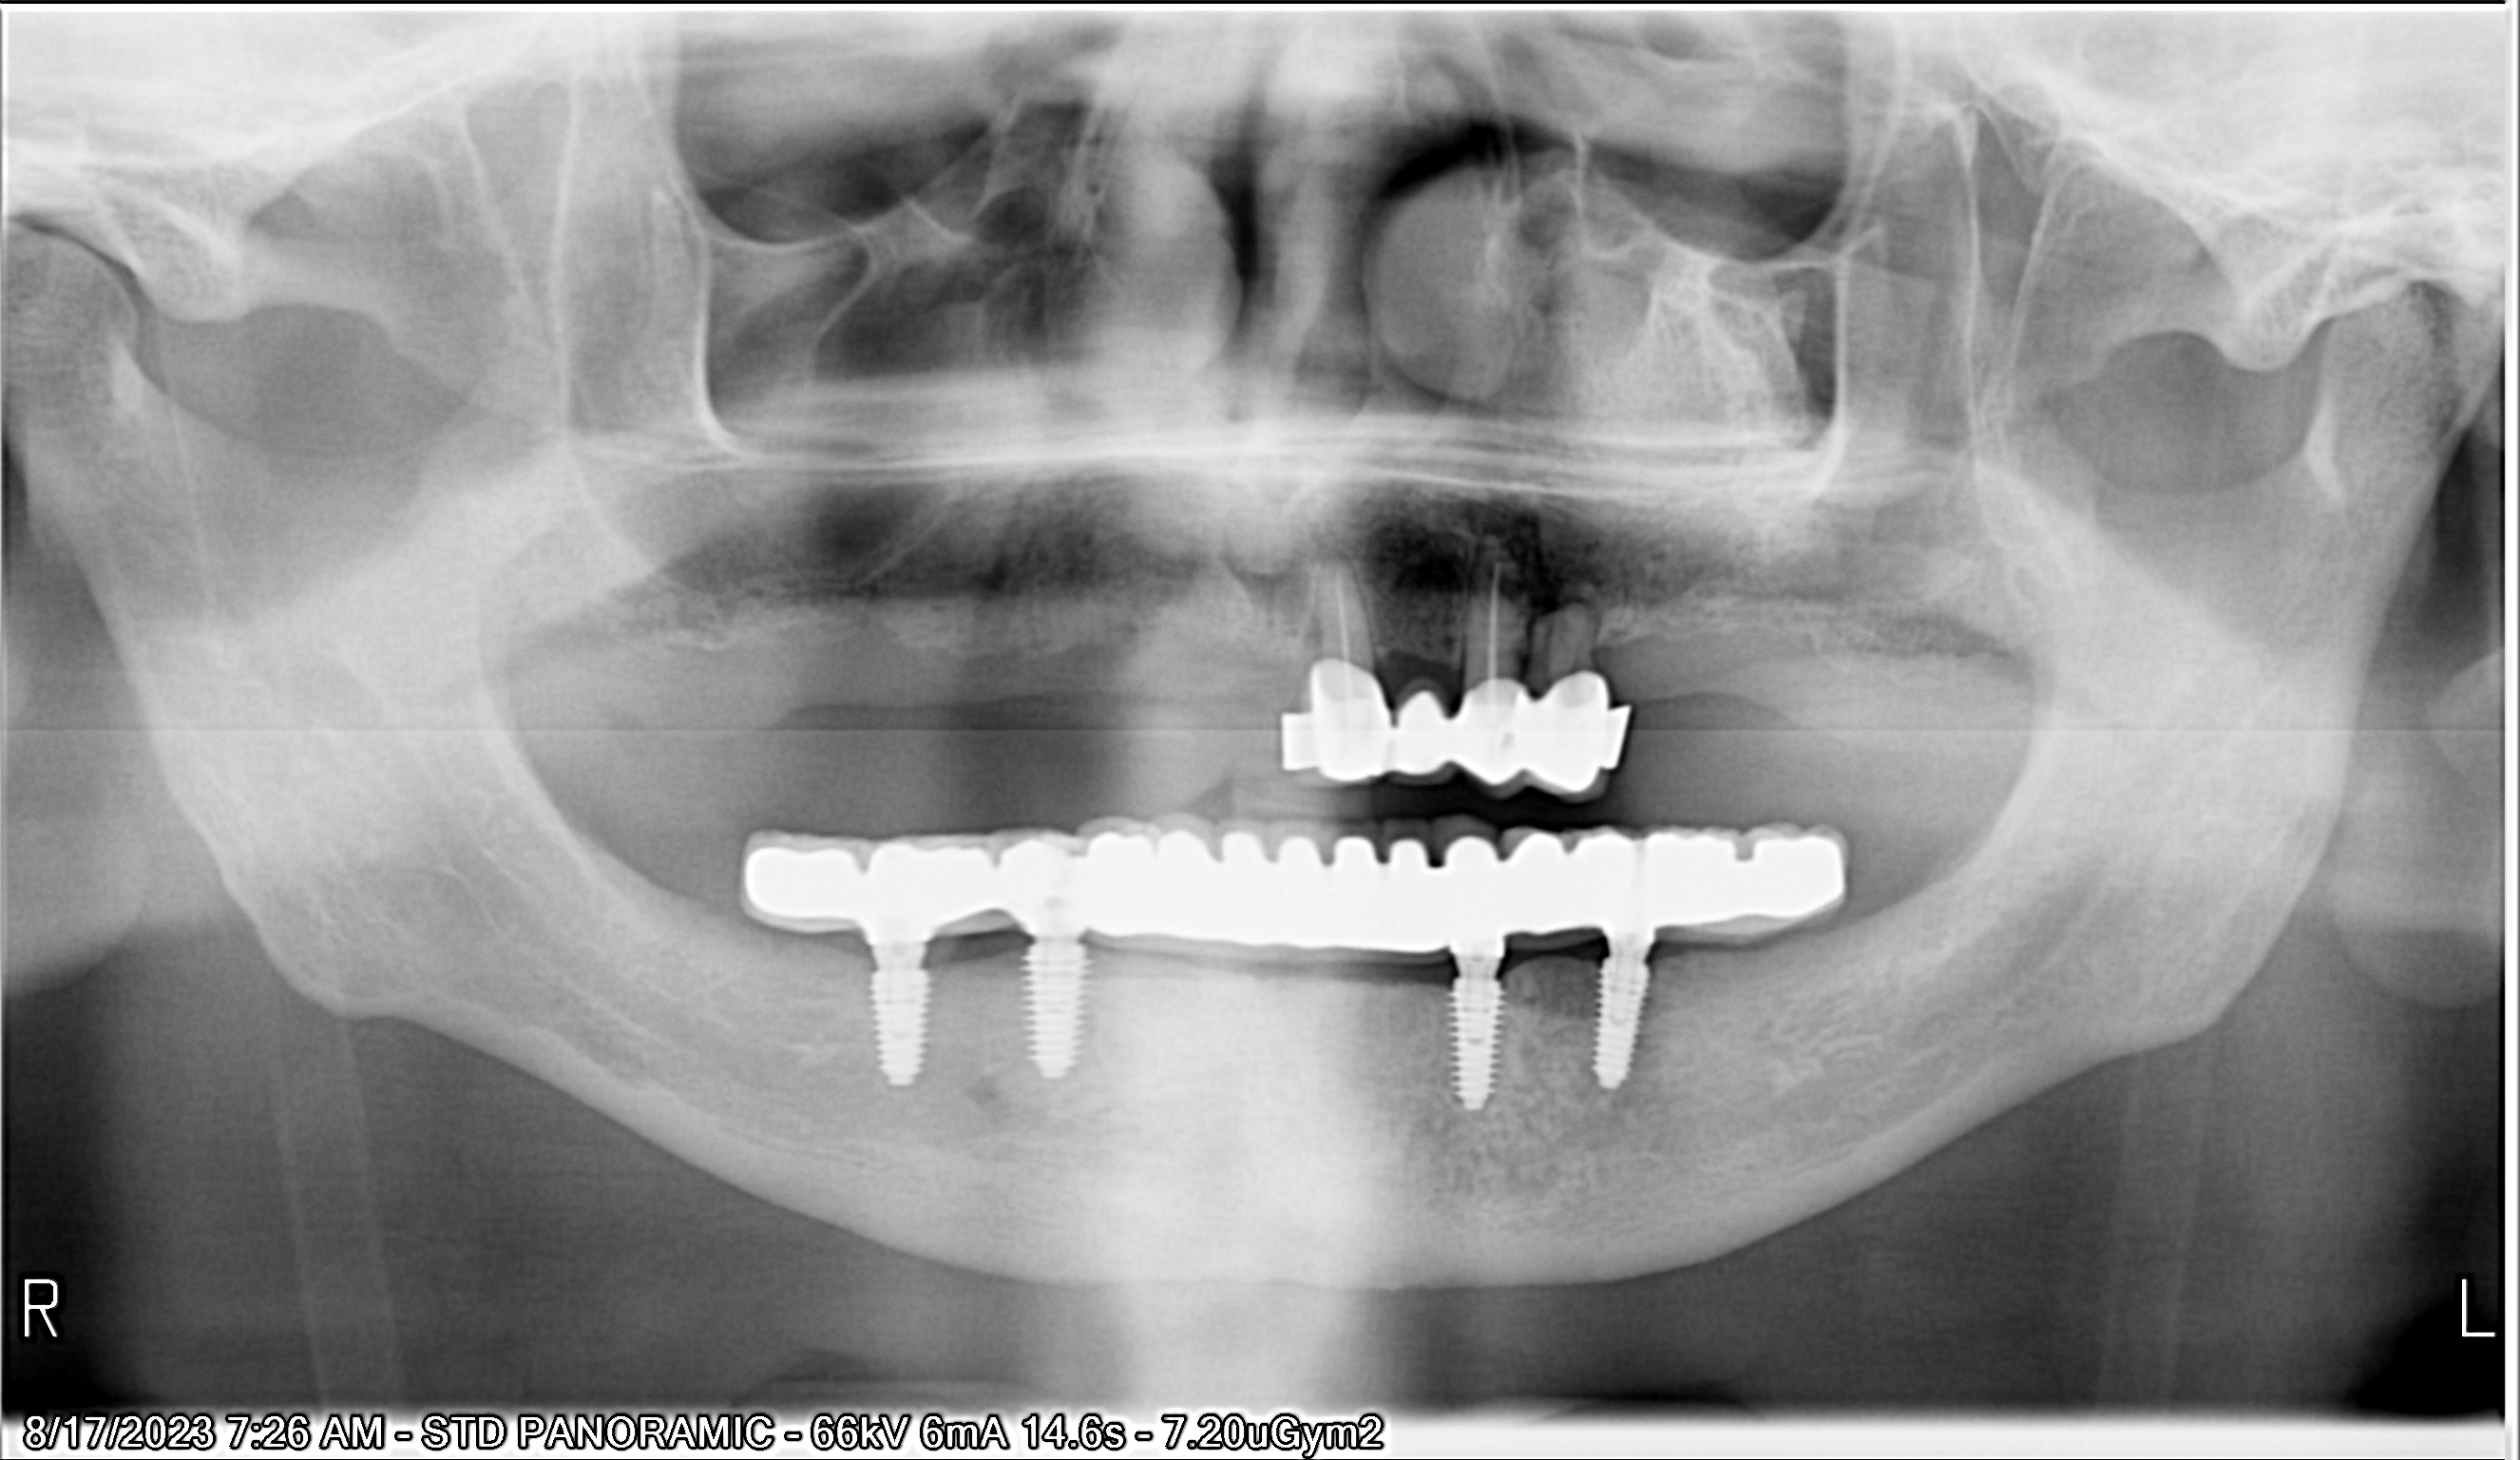END: (1469, 549, 1521, 673), (1318, 554, 1365, 673)
IMP: (844, 952, 953, 1121), (1426, 956, 1527, 1135), (1567, 951, 1667, 1118), (1006, 932, 1098, 1107)
PRR: (679, 779, 1853, 963), (1261, 660, 1667, 819)
